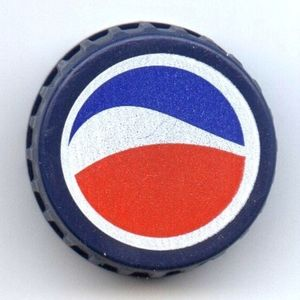pepsi: (59, 49, 260, 252), (72, 49, 260, 252)
